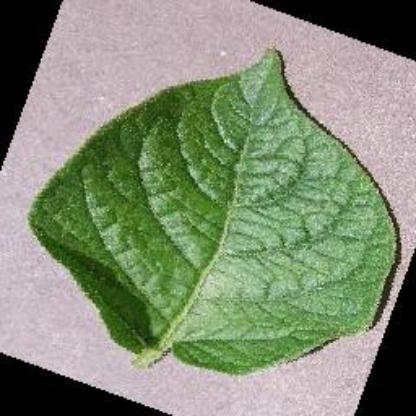Healthy-plant: (16, 37, 412, 398)
